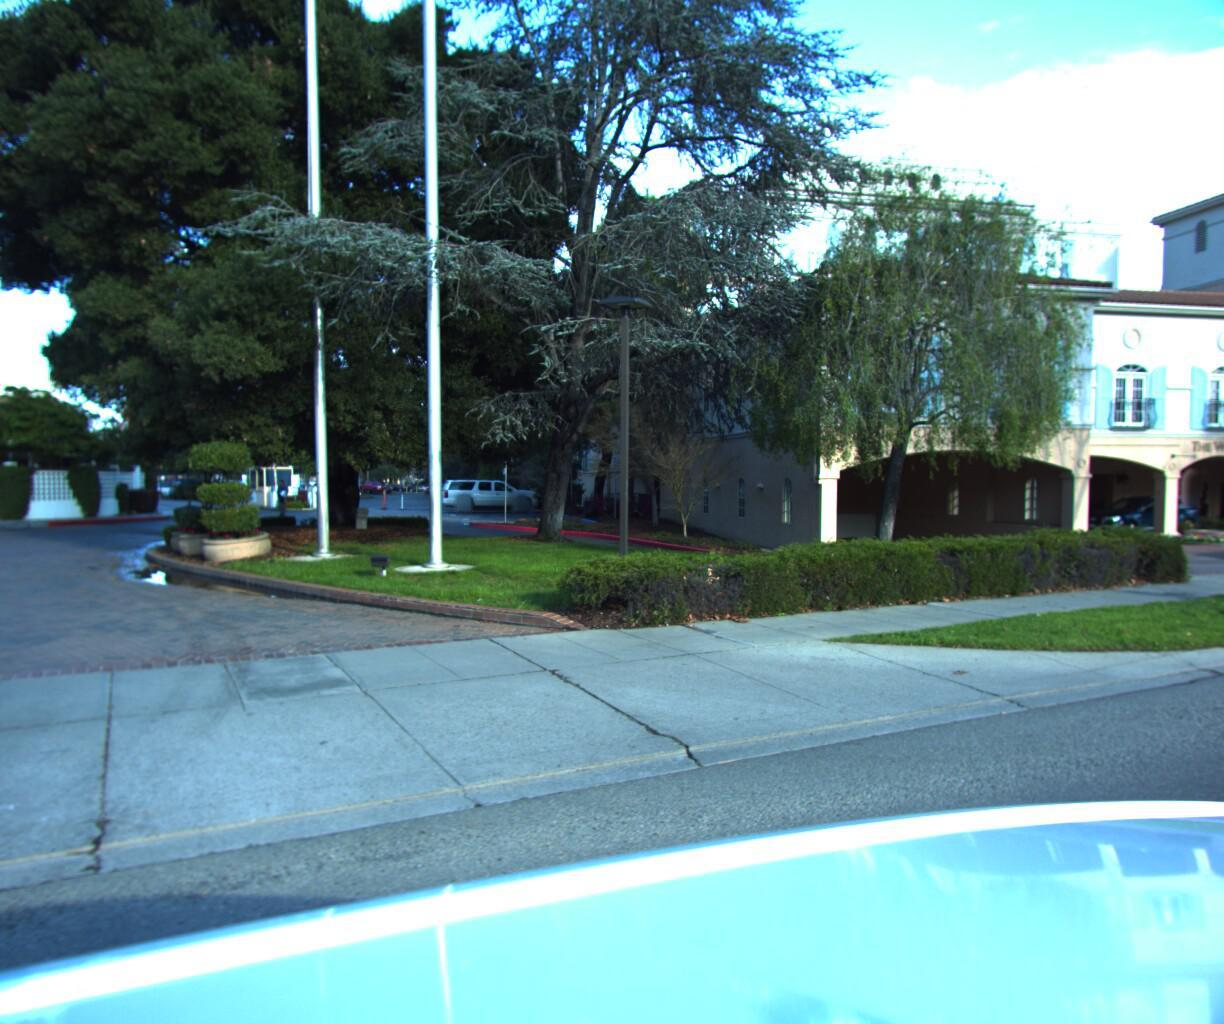car: (1073, 485, 1216, 534)
